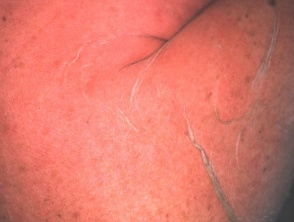SJS-TEN: (35, 0, 294, 222)
